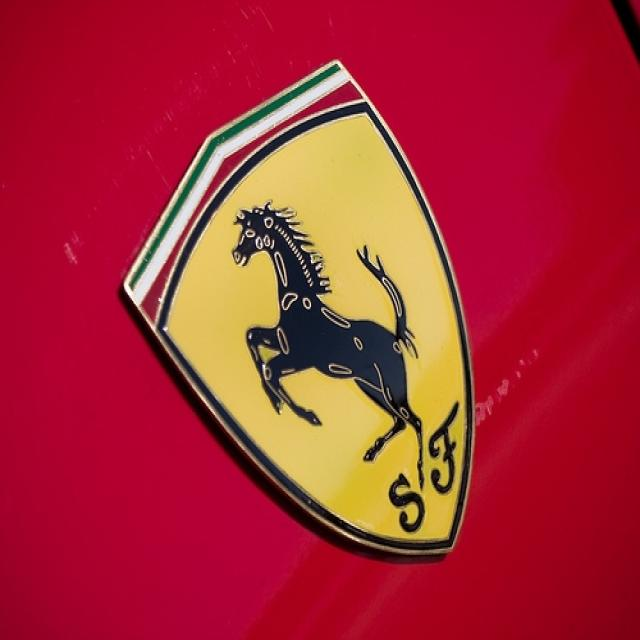ferrari: (121, 59, 476, 550)
